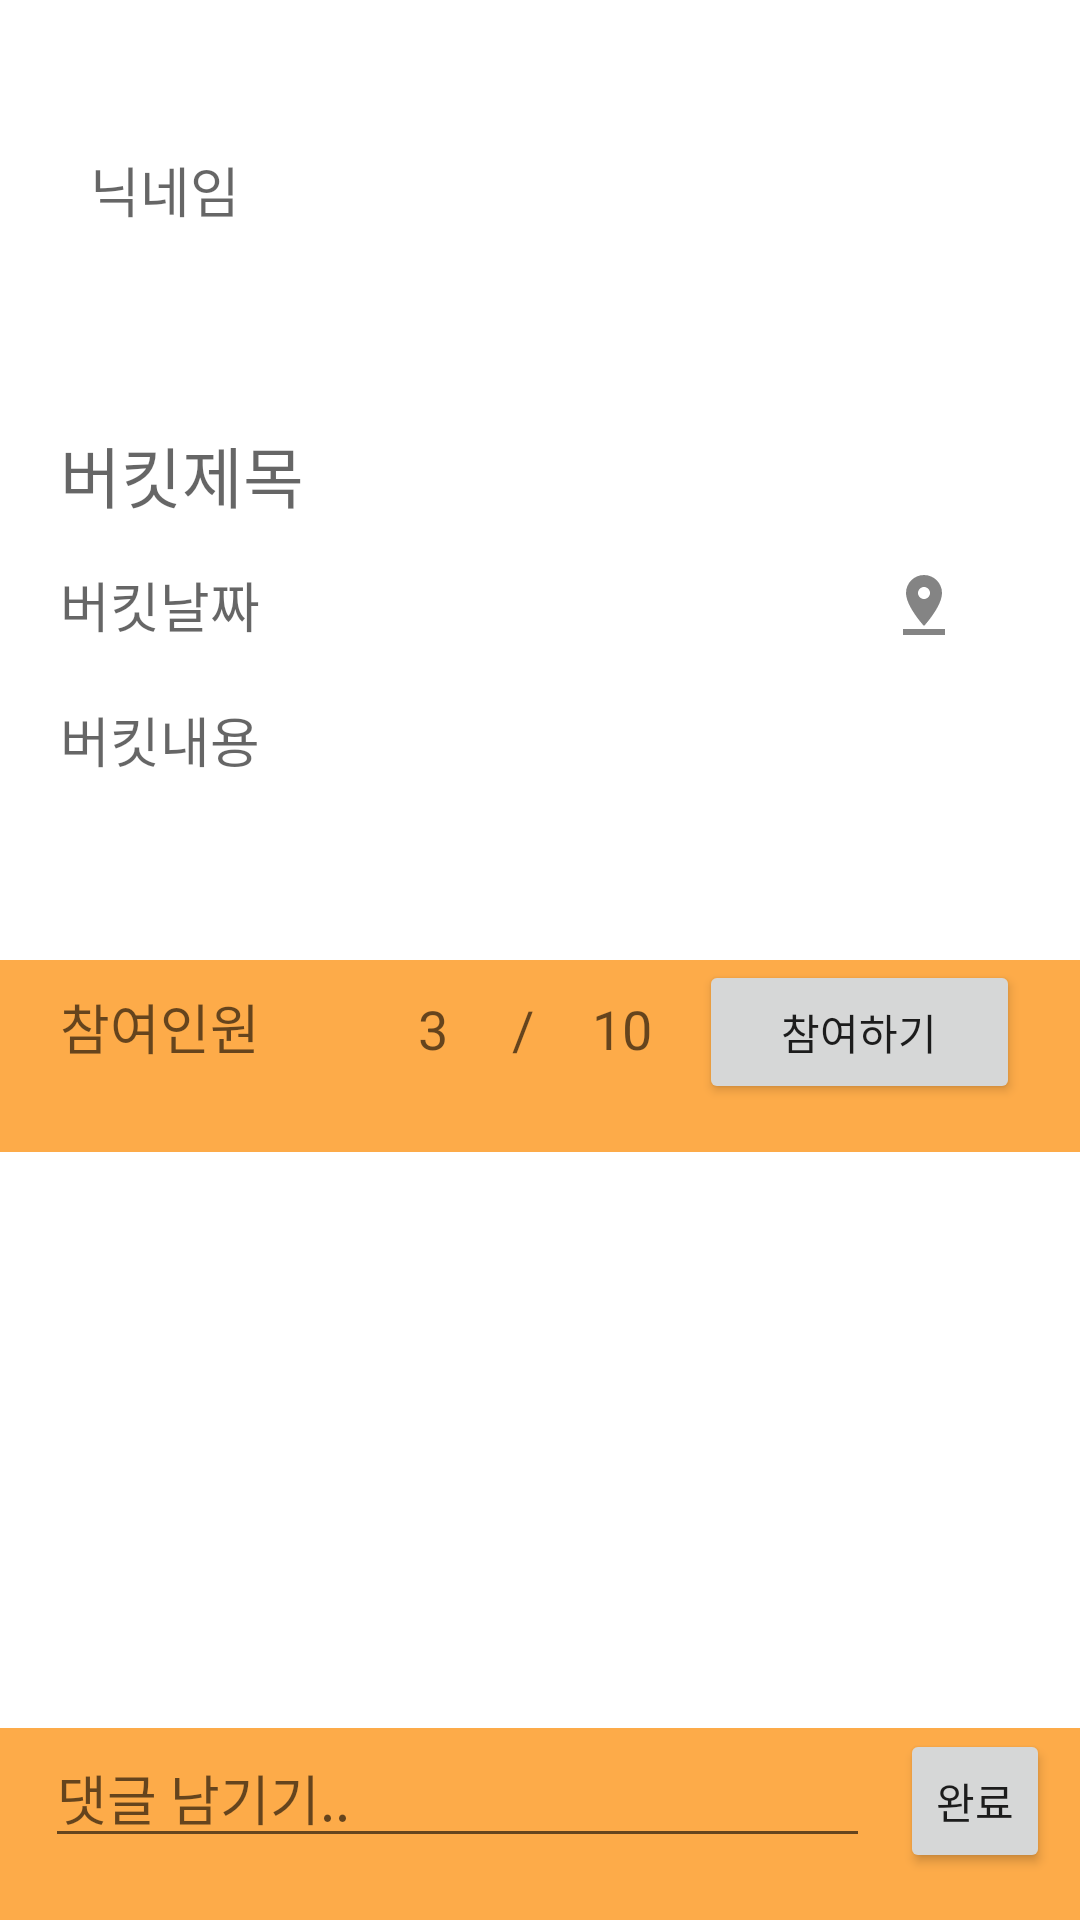

Screen size 1080×1920. Icon name, then its box in pixels as bbox=(x1, y1, x2, y2):
pin drop: bbox=(903, 575, 945, 635)
